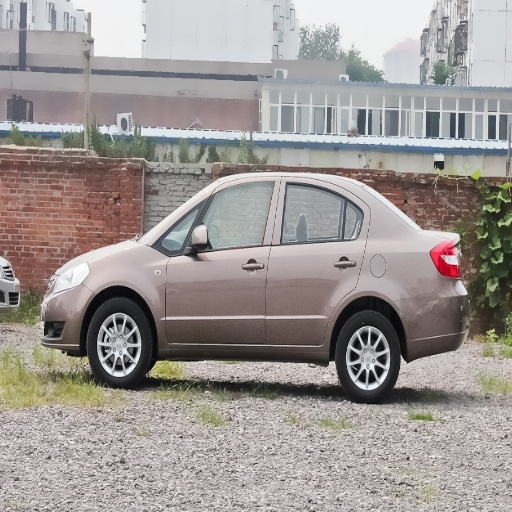back_left_door: (266, 177, 366, 346)
front_left_door: (167, 178, 280, 343)
